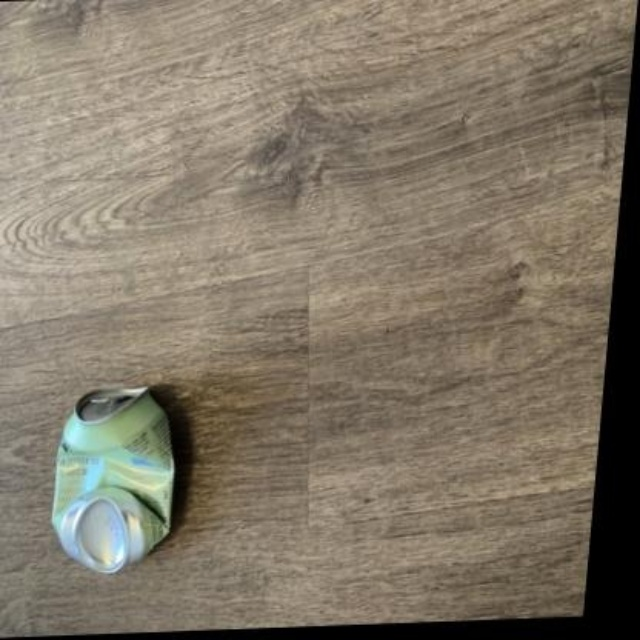trash: (52, 388, 172, 572)
